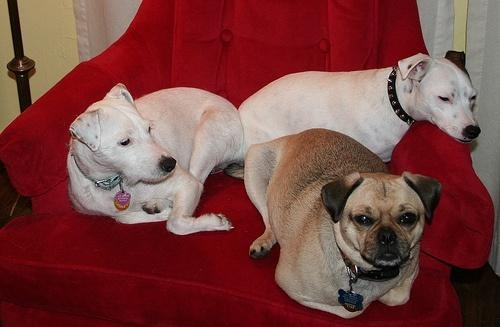chair: (3, 3, 493, 327)
dog: (242, 130, 444, 317), (237, 51, 484, 178), (68, 84, 246, 235)
